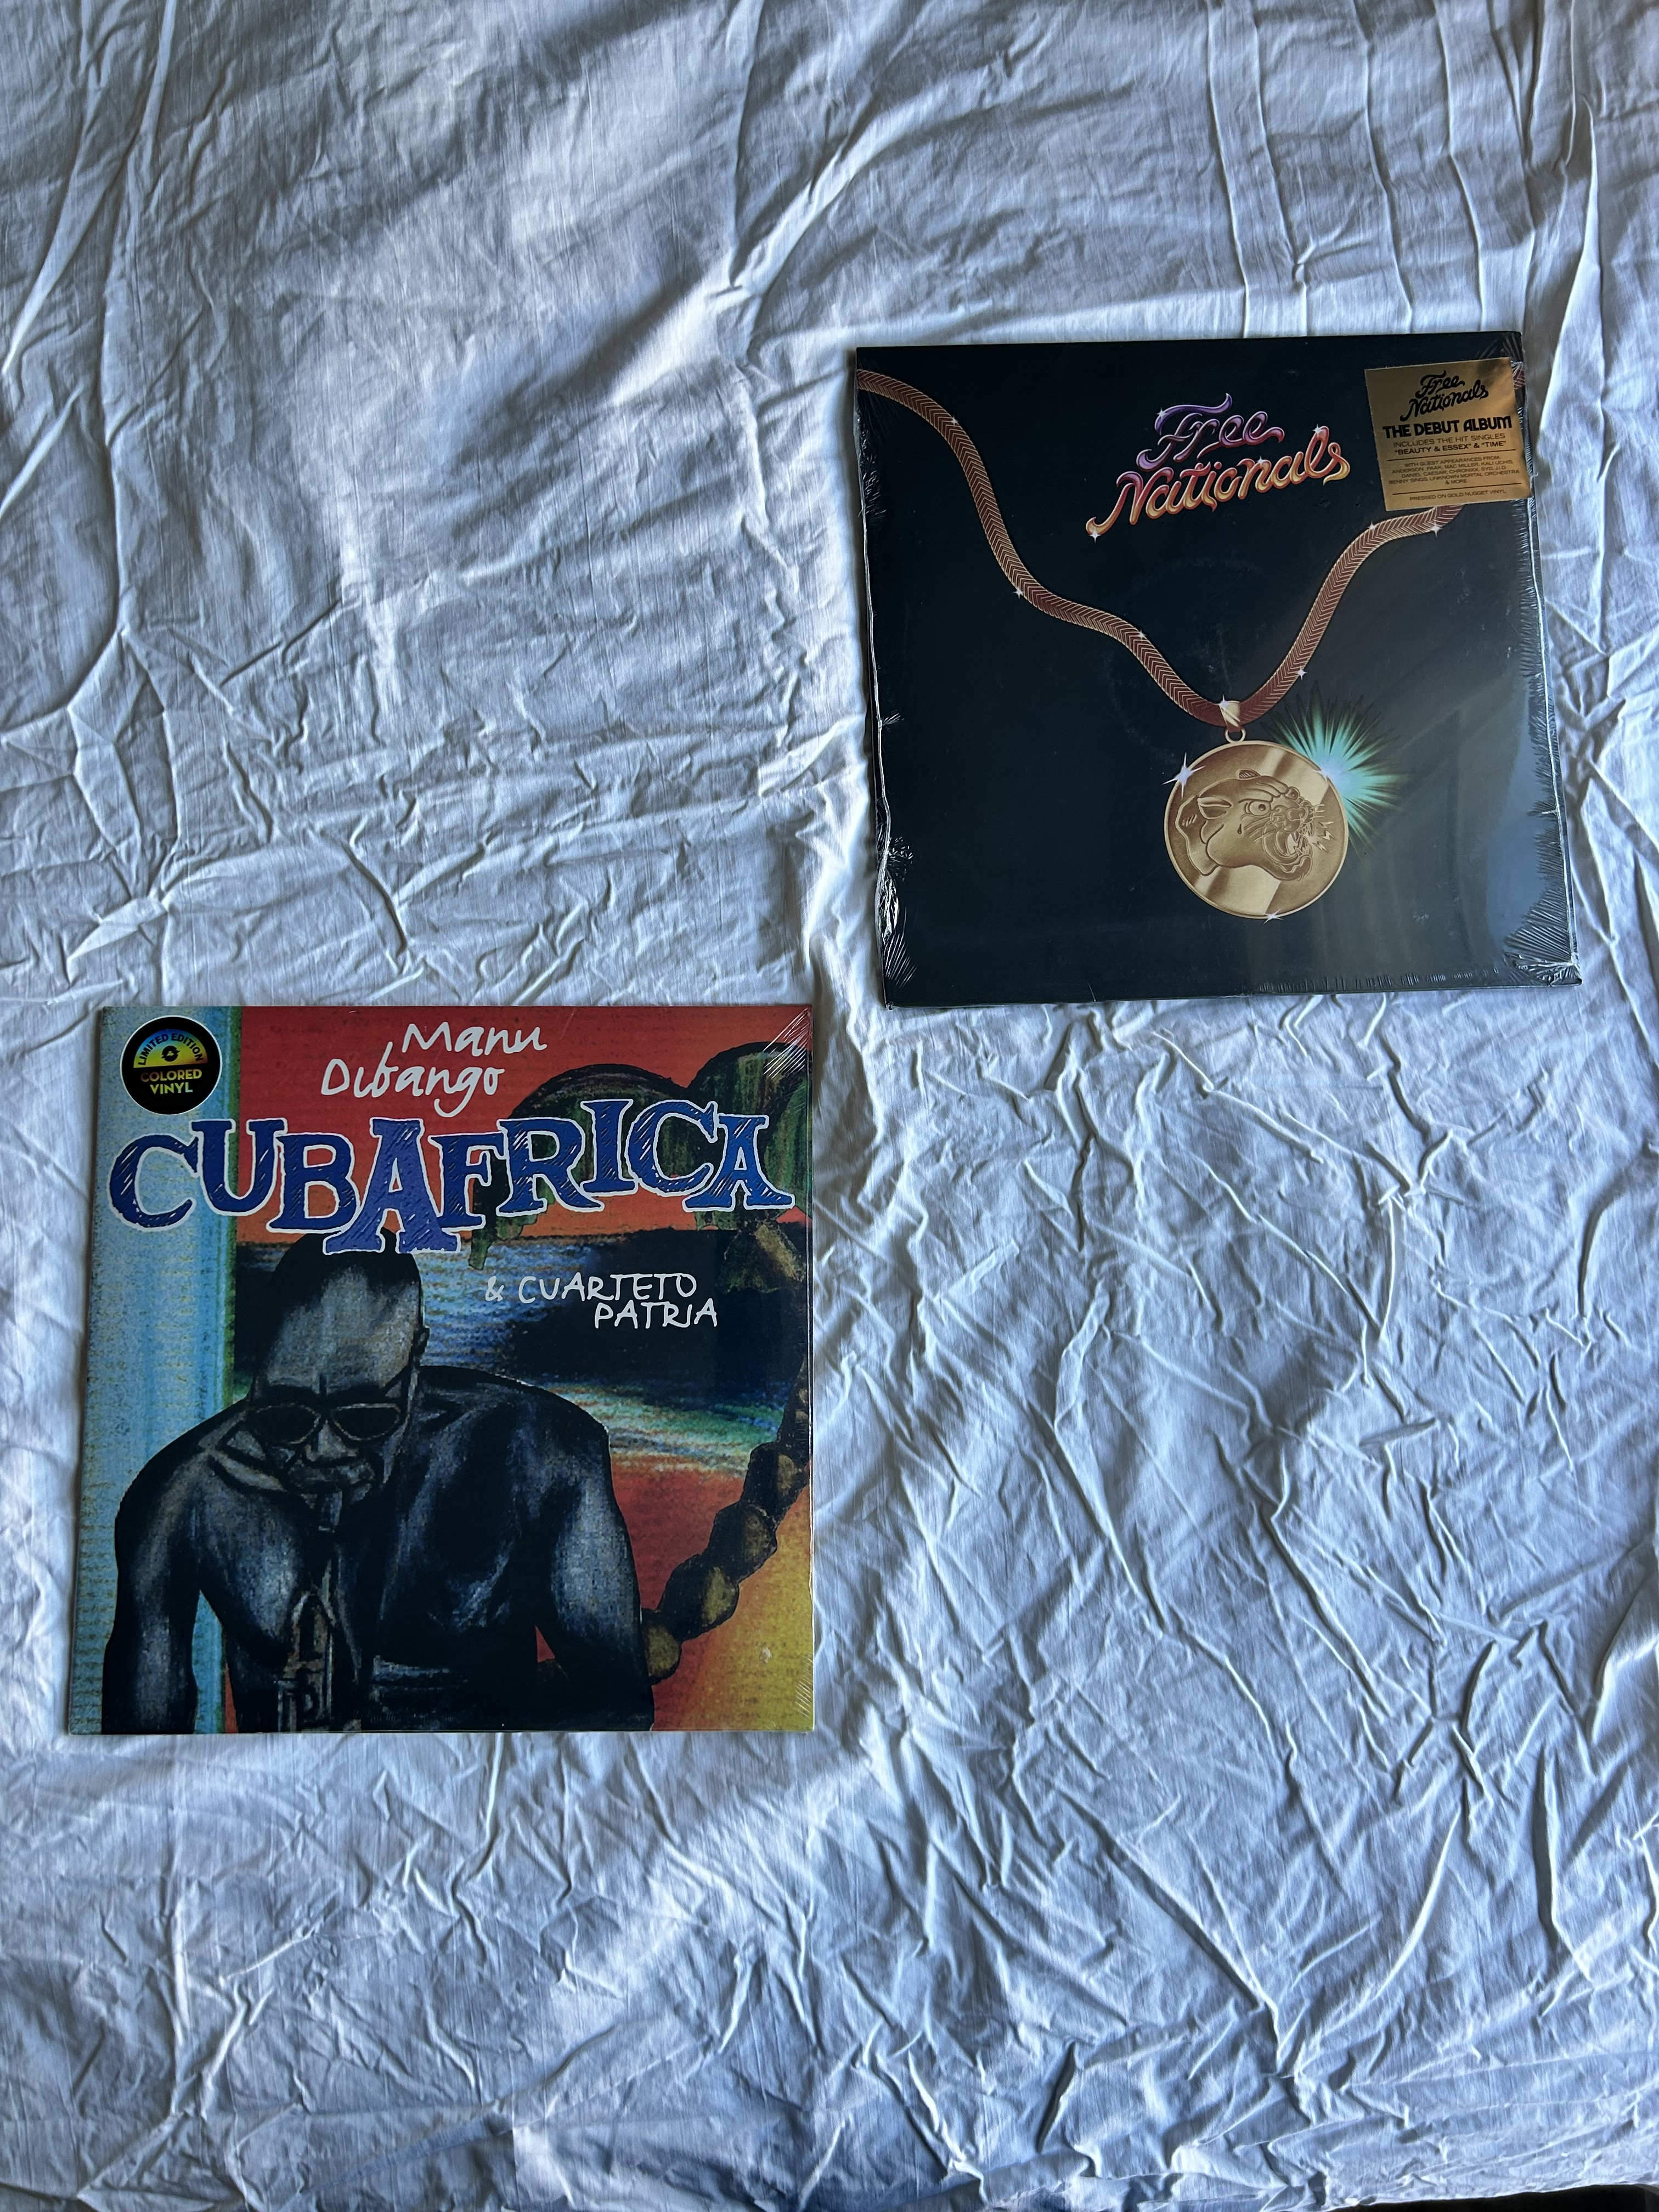free nationals_free nationals: (843, 354, 1565, 1005)
manu dibango_cubafrica: (66, 1000, 816, 1731)
